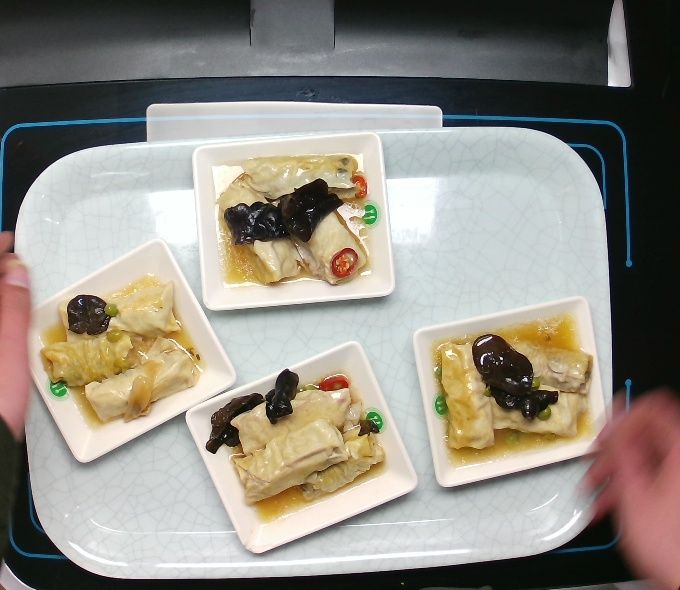wcq-QianZhangBao: (203, 365, 393, 525), (35, 274, 211, 433), (428, 311, 601, 471), (208, 146, 380, 291)
